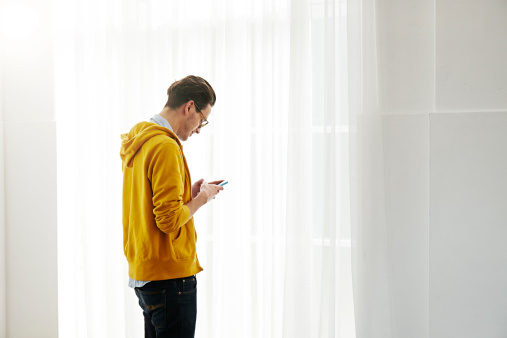em pe: (120, 75, 227, 338)
